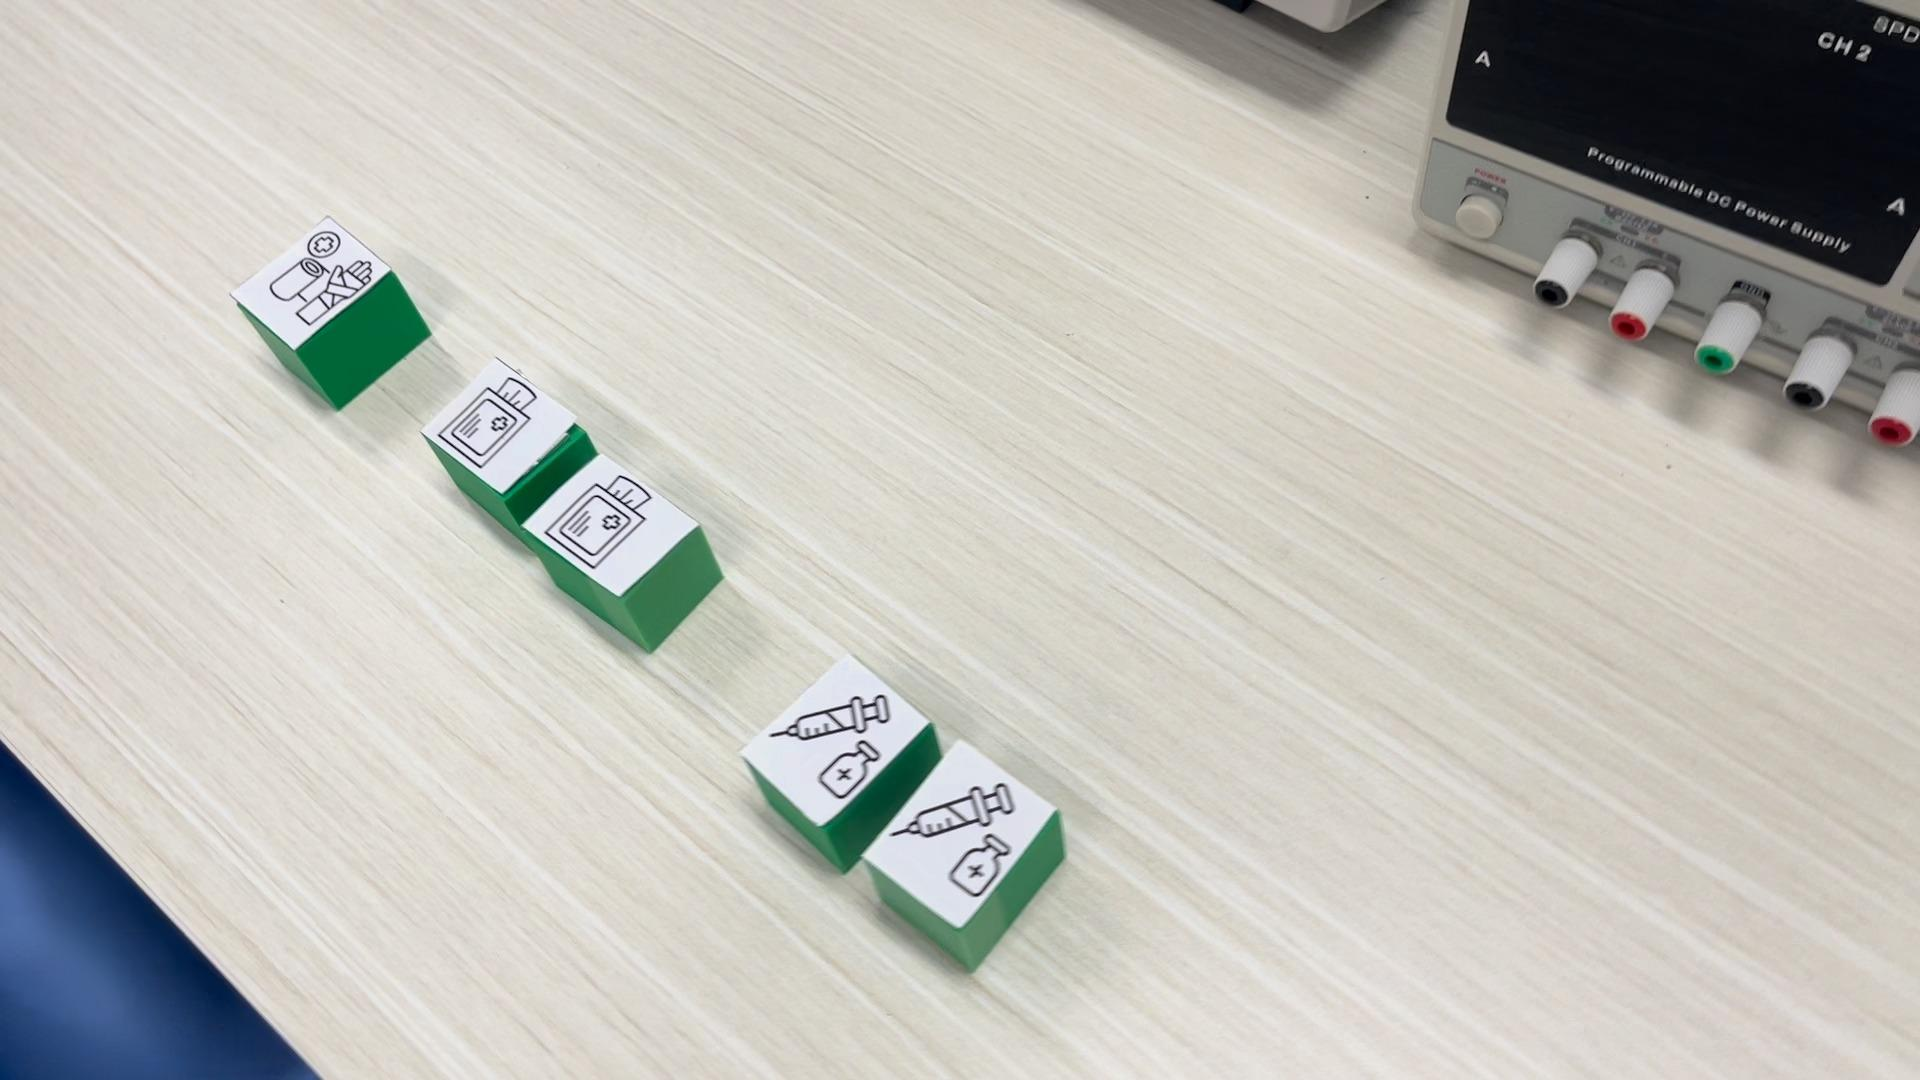Bandages: (229, 215, 433, 409)
Gauze: (518, 452, 725, 657), (422, 353, 596, 497)
antiseptic cream: (865, 740, 1064, 971), (741, 649, 932, 825)
